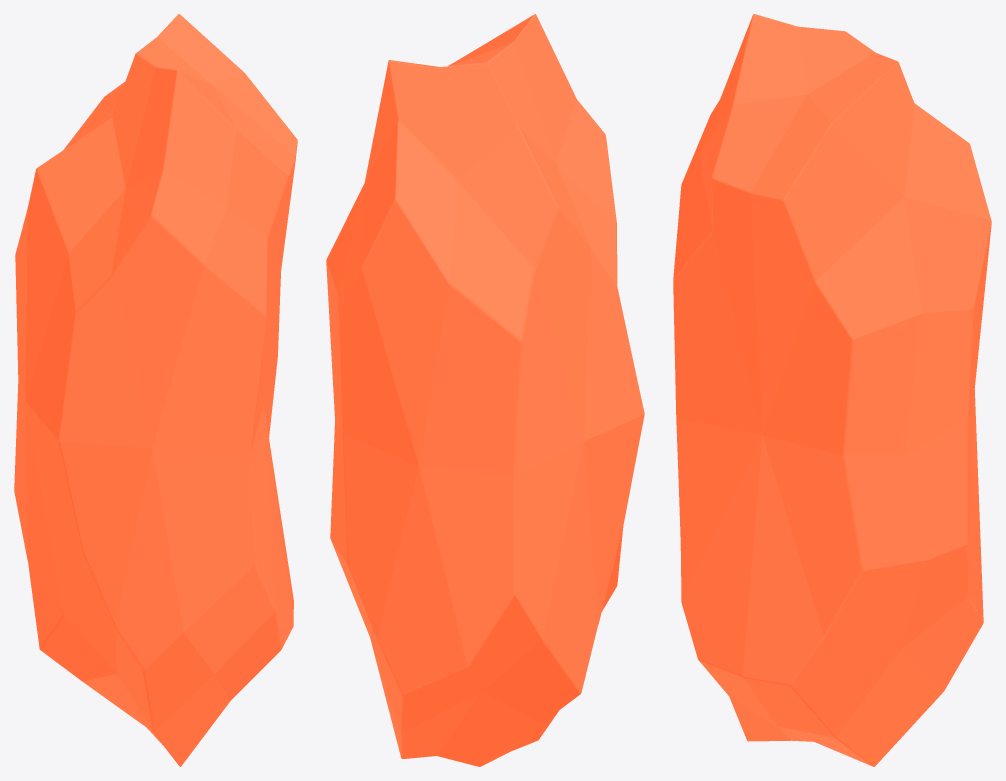
Rendered from SpecterShard.fbx.
3 renders of one model, left to right at view 1: azimuth 30°, elevation 25°; view 2: azimuth 150°, elevation 25°; view 3: azimuth 270°, elevation 25°, orthographic. The views are drawn at different scales.
Visible parts, largest first — view 1: Cube; view 2: Cube; view 3: Cube.
Boxes of the visible parts, <box> form: Cube: <box>14,14,297,766</box>; Cube: <box>326,14,644,766</box>; Cube: <box>673,14,991,766</box>.
Size of the model in its own units: 214 by 539 by 214.
